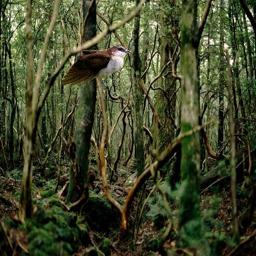Cuckoo: (60, 17, 133, 89)
